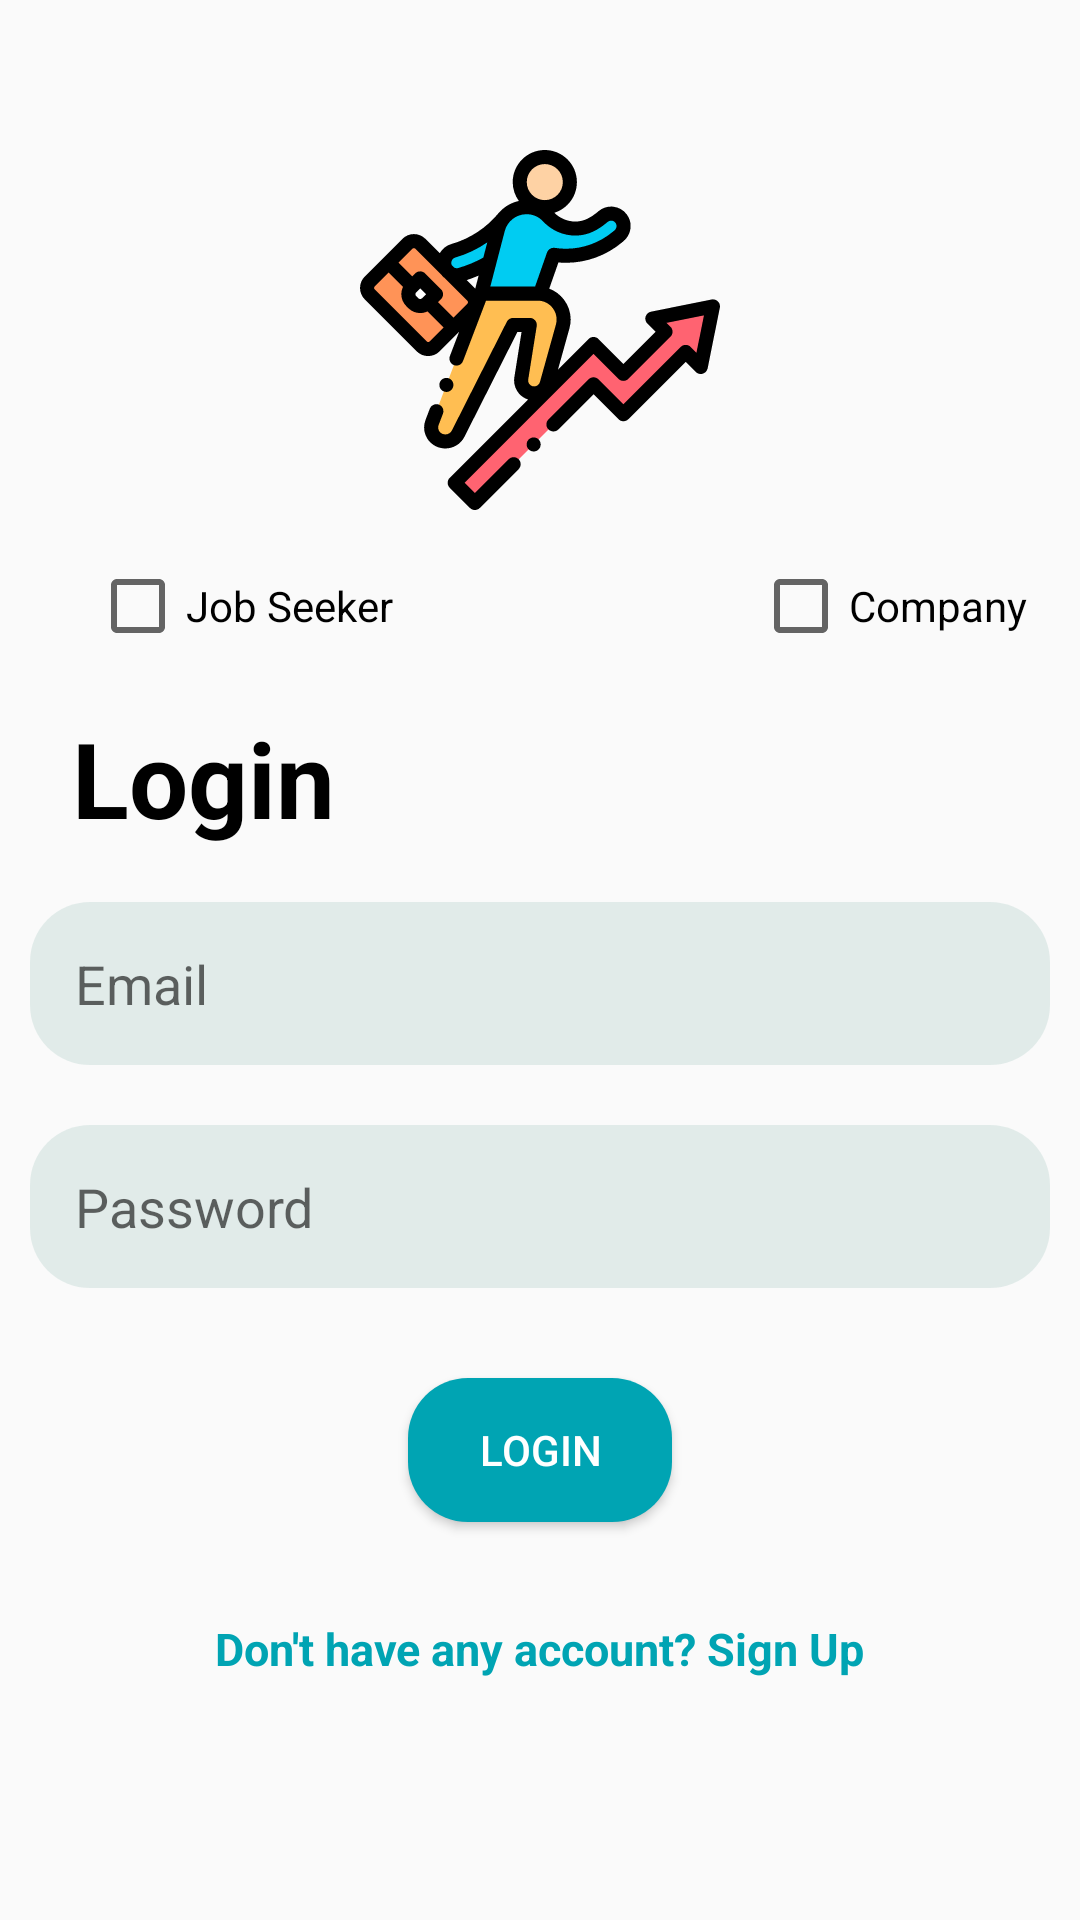

Icon bounding boxes for this 1080px×1920px phone screenshot, format {"left": x1, "top": y1, "right": x2, "bottom": y2}:
careercolor: {"left": 360, "top": 150, "right": 720, "bottom": 510}
